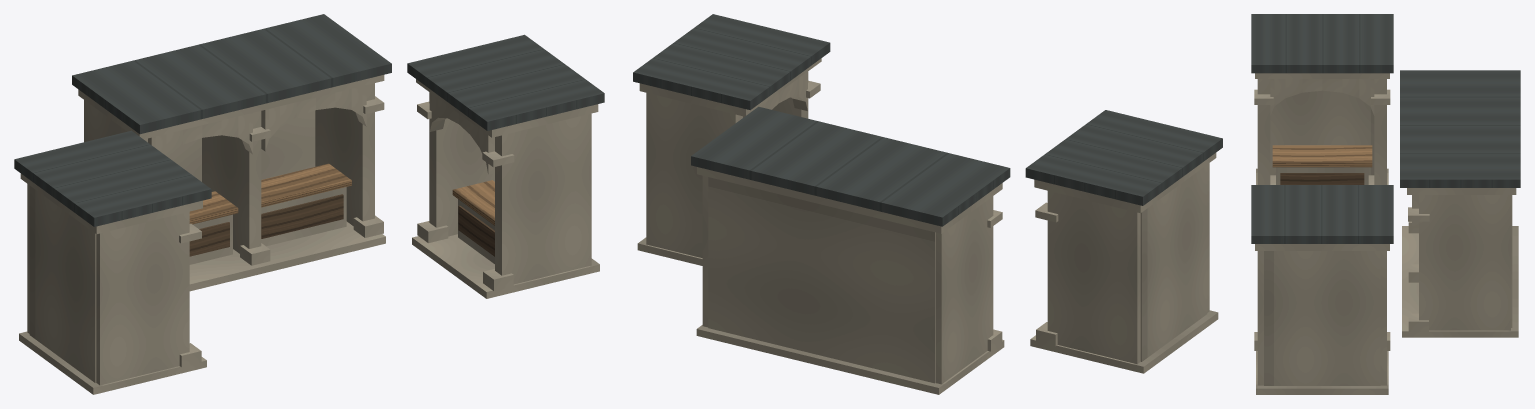
The picture shows the model from 3 angles, left to right: view 1: azimuth 30°, elevation 25°; view 2: azimuth 150°, elevation 25°; view 3: azimuth 270°, elevation 25°; orthographic projection. The views are drawn at different scales.
Parts seen in each view (by area): view 1: laayoune; view 2: laayoune; view 3: laayoune.
Boxes of the visible parts, x1,y1,x2,y2 form: laayoune: [14, 14, 604, 394]; laayoune: [633, 14, 1222, 394]; laayoune: [1251, 14, 1520, 394].
Bounding box in the file's own units: 7.4 × 2.49 × 3.8.
1 material, 1 textured.
